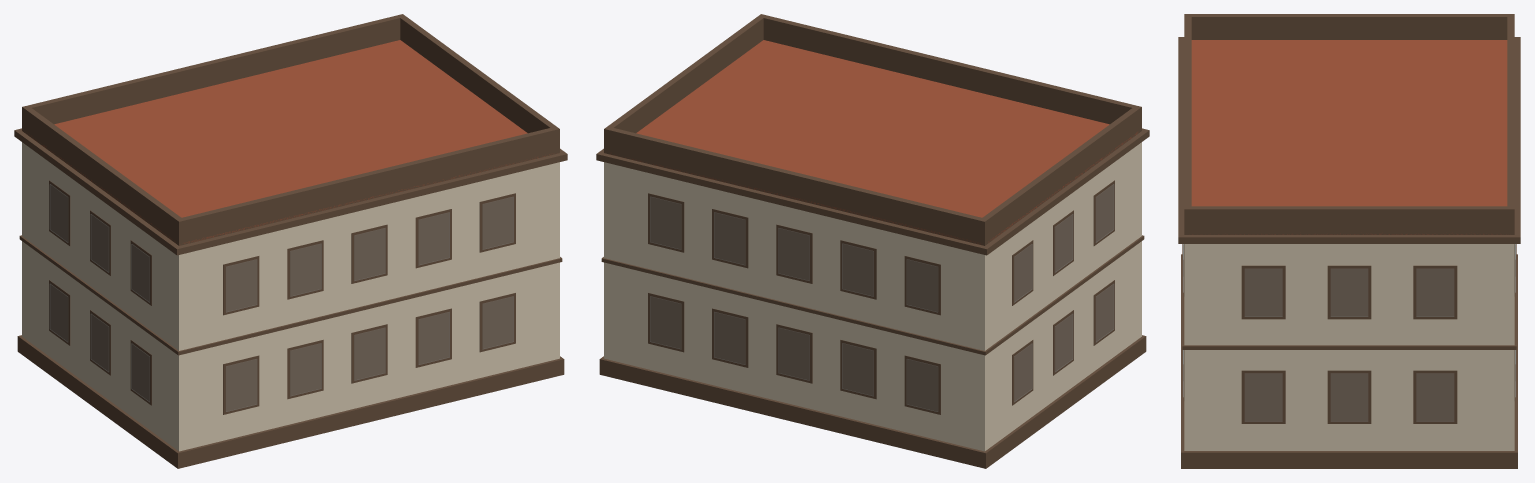
File: block_low.glb
The picture shows the model from 3 angles, left to right: view 1: azimuth 30°, elevation 25°; view 2: azimuth 150°, elevation 25°; view 3: azimuth 270°, elevation 25°; orthographic projection. The views are drawn at different scales.
Parts seen in each view (by area): view 1: SM_ENV_block_low; view 2: SM_ENV_block_low; view 3: SM_ENV_block_low.
Boxes of the visible parts, box(x1,y1,x2,y2) form: SM_ENV_block_low: box(14, 14, 567, 468); SM_ENV_block_low: box(596, 14, 1149, 468); SM_ENV_block_low: box(1178, 14, 1520, 468).
Size of the model in its own units: 14.36 by 8.62 by 10.36.
